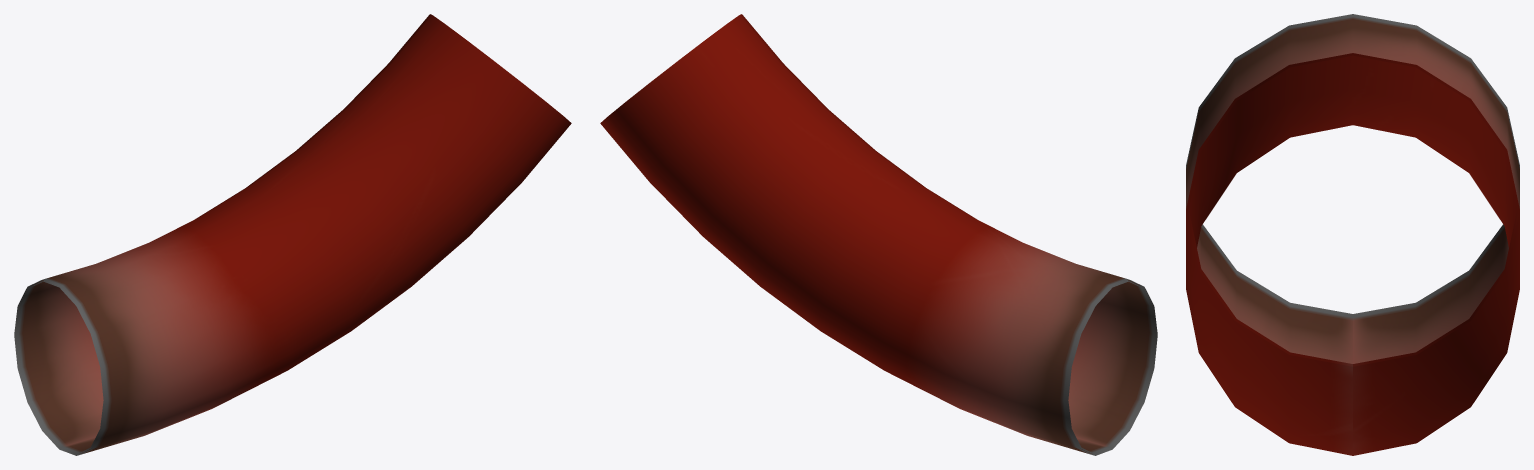
Rendered from pipe01_crn_48a_hollow.fbx.
The picture shows the model from 3 angles, left to right: view 1: azimuth 30°, elevation 25°; view 2: azimuth 150°, elevation 25°; view 3: azimuth 270°, elevation 25°; orthographic projection. The views are drawn at different scales.
Parts seen in each view (by area): view 1: pipe01_crn_48a_hollow; view 2: pipe01_crn_48a_hollow; view 3: pipe01_crn_48a_hollow.
Boxes of the visible parts, box(x1,y1,x2,y2) form: pipe01_crn_48a_hollow: box(14, 14, 571, 455); pipe01_crn_48a_hollow: box(600, 14, 1157, 455); pipe01_crn_48a_hollow: box(1186, 14, 1519, 455).
Bounding box in the file's own units: 38.19 × 24.3 × 12.
